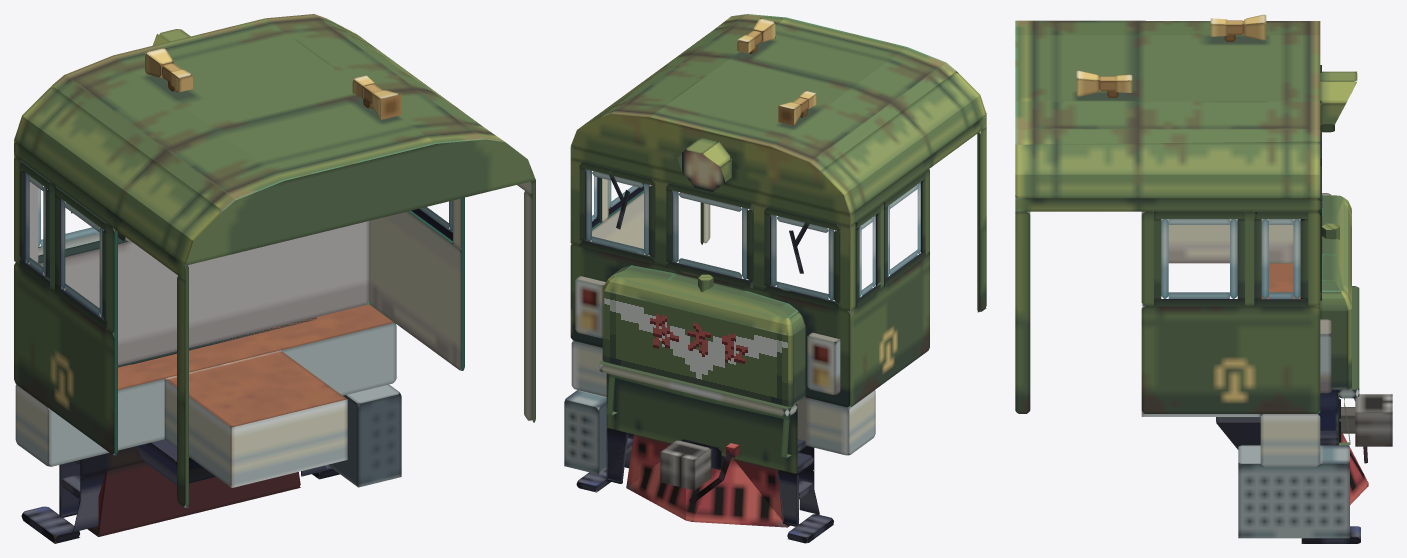
Rendered from dfh21_head.obj.
3 renders of one model, left to right at view 1: azimuth 30°, elevation 25°; view 2: azimuth 150°, elevation 25°; view 3: azimuth 270°, elevation 25°, orthographic. The views are drawn at different scales.
Parts seen in each view (by area): view 1: cube_selection_selection; view 2: cube_selection_selection; view 3: cube_selection_selection.
Boxes of the visible parts, <box> form: cube_selection_selection: <box>14,14,535,543</box>; cube_selection_selection: <box>564,14,986,543</box>; cube_selection_selection: <box>1015,14,1392,543</box>.
Size of the model in its own units: 3.05 by 4.06 by 3.17.
